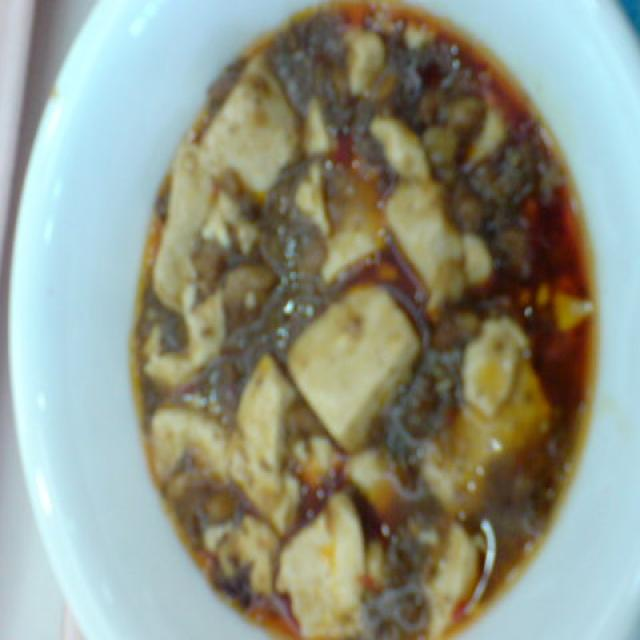豆腐料理: (44, 0, 640, 640)
